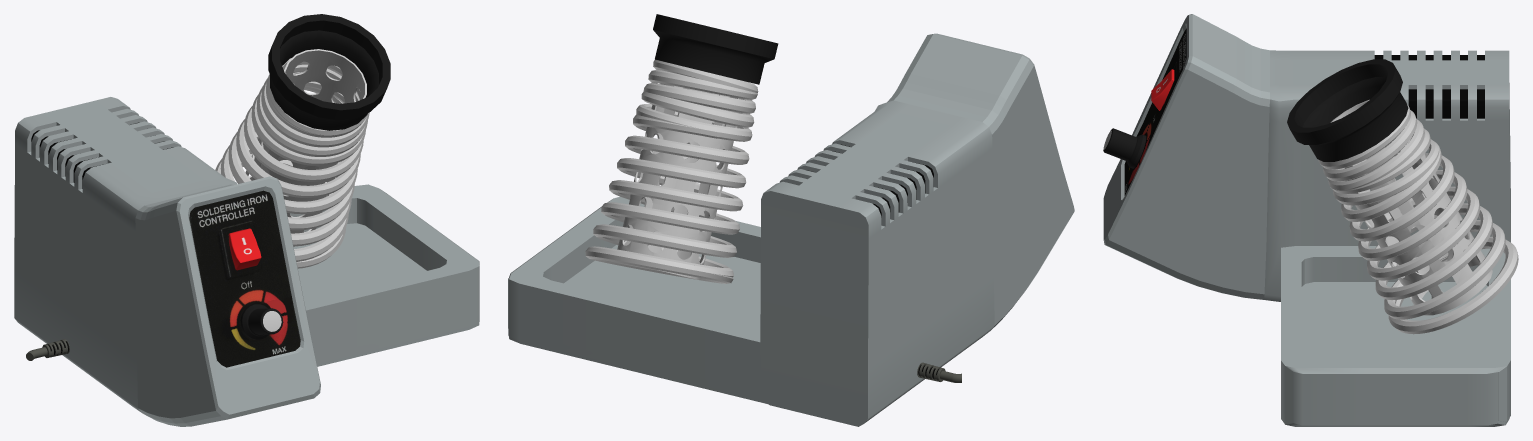
The model's file is Soldering_Iron2.fbx.
3 views of the same model, side by side, from view 1: azimuth 30°, elevation 25°; view 2: azimuth 150°, elevation 25°; view 3: azimuth 270°, elevation 25° (orthographic). The views are drawn at different scales.
Parts seen in each view (by area): view 1: Soldering_Iron_Model_01:pCube1, Soldering_Iron_Model_01:pHelix3, Soldering_Iron_Model_01:pPipe1, Soldering_Iron_Model_01:pPipe3, Soldering_Iron_Model_01:pCylinder3, Soldering_Iron_Model_01:pCube2, Soldering_Iron_Model_01:pCylinder5; view 2: Soldering_Iron_Model_01:pCube1, Soldering_Iron_Model_01:pHelix3, Soldering_Iron_Model_01:pPipe3, Soldering_Iron_Model_01:pPipe1, Soldering_Iron_Model_01:pCylinder5; view 3: Soldering_Iron_Model_01:pCube1, Soldering_Iron_Model_01:pHelix3, Soldering_Iron_Model_01:pPipe1, Soldering_Iron_Model_01:pPipe3, Soldering_Iron_Model_01:pCylinder3, Soldering_Iron_Model_01:pCube2.
Part boxes in pixels (x1,y1,x2,y2): Soldering_Iron_Model_01:pCube1: [14, 97, 479, 426]; Soldering_Iron_Model_01:pHelix3: [215, 58, 369, 268]; Soldering_Iron_Model_01:pPipe1: [268, 14, 390, 130]; Soldering_Iron_Model_01:pPipe3: [245, 49, 366, 246]; Soldering_Iron_Model_01:pCylinder3: [240, 304, 283, 339]; Soldering_Iron_Model_01:pCube2: [228, 228, 261, 270]; Soldering_Iron_Model_01:pCylinder5: [26, 339, 69, 360]; Soldering_Iron_Model_01:pCube1: [508, 33, 1074, 426]; Soldering_Iron_Model_01:pHelix3: [585, 59, 758, 283]; Soldering_Iron_Model_01:pPipe3: [617, 83, 743, 280]; Soldering_Iron_Model_01:pPipe1: [653, 14, 778, 84]; Soldering_Iron_Model_01:pCylinder5: [917, 362, 961, 382]; Soldering_Iron_Model_01:pCube1: [1103, 14, 1510, 426]; Soldering_Iron_Model_01:pHelix3: [1318, 104, 1518, 334]; Soldering_Iron_Model_01:pPipe1: [1287, 59, 1408, 161]; Soldering_Iron_Model_01:pPipe3: [1330, 99, 1492, 315]; Soldering_Iron_Model_01:pCylinder3: [1103, 128, 1146, 168]; Soldering_Iron_Model_01:pCube2: [1151, 69, 1174, 110].
Size of the model in its own units: 25.4 by 18.06 by 22.89.
